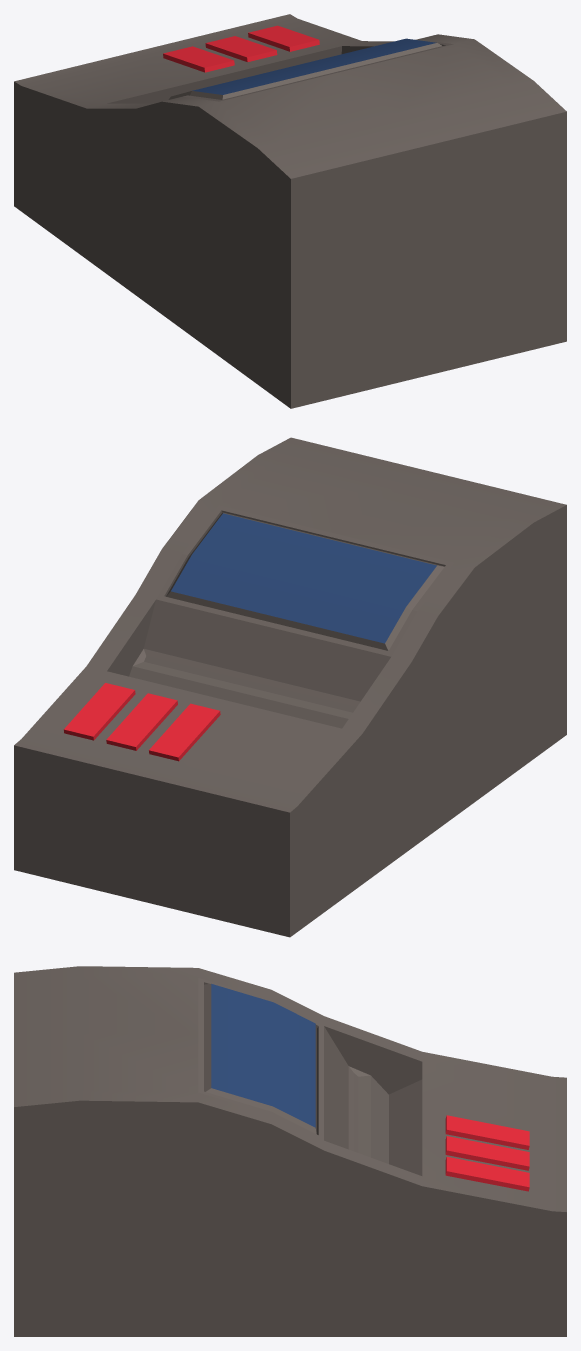
The model's file is SM_eqtiquette_printer.fbx.
The picture shows the model from 3 angles, top to bottom: view 1: azimuth 30°, elevation 25°; view 2: azimuth 150°, elevation 25°; view 3: azimuth 270°, elevation 25°; orthographic projection.
Parts seen in each view (by area): view 1: eqtiquette_printer; view 2: eqtiquette_printer; view 3: eqtiquette_printer.
Part boxes in pixels (x1,y1,x2,y2): eqtiquette_printer: (14, 14, 566, 408); eqtiquette_printer: (14, 437, 566, 937); eqtiquette_printer: (14, 966, 566, 1336).
Size of the model in its own units: 19.62 by 16.06 by 34.08.
